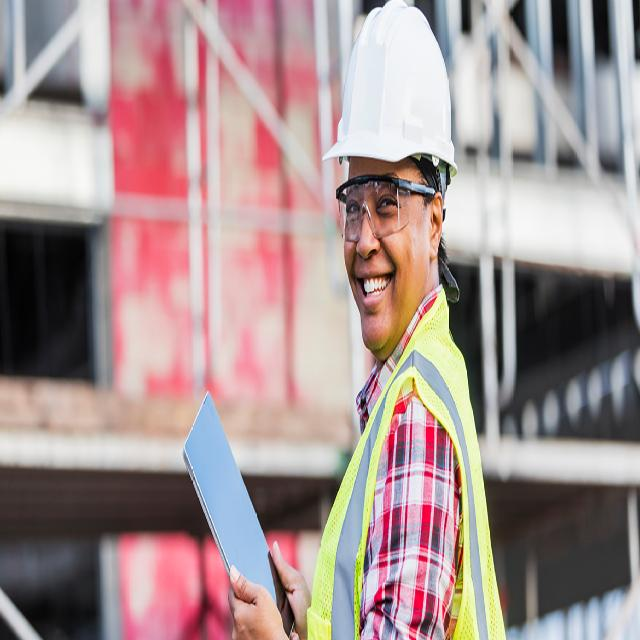Helmet: (321, 0, 464, 173)
Protective Glasses: (331, 173, 442, 240)
Vest: (298, 285, 528, 640)
